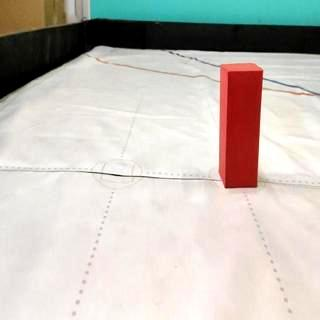redbox: (220, 62, 264, 194)
